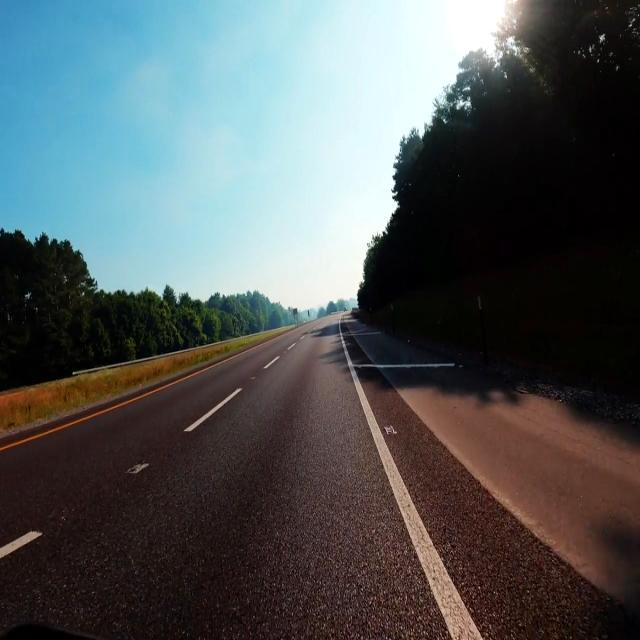lane: (339, 320, 481, 640), (0, 369, 208, 451), (185, 387, 241, 430), (0, 531, 41, 557)
road: (0, 317, 448, 637), (356, 370, 640, 638)
